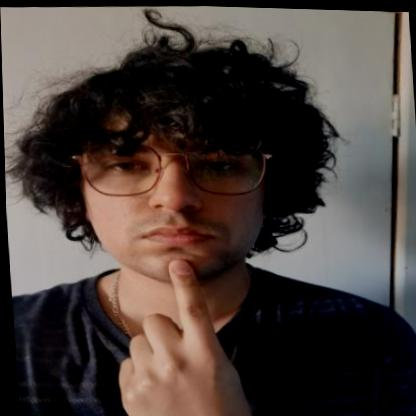T: (107, 250, 250, 416)
